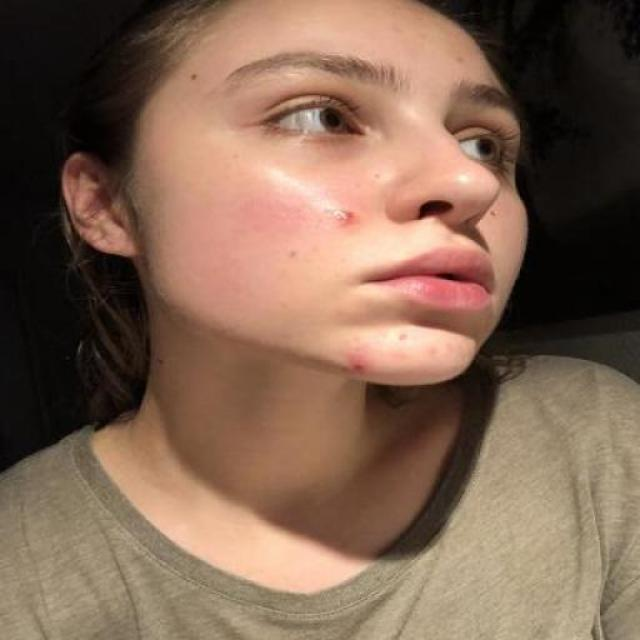Acne: (326, 206, 362, 236), (349, 361, 372, 379)
